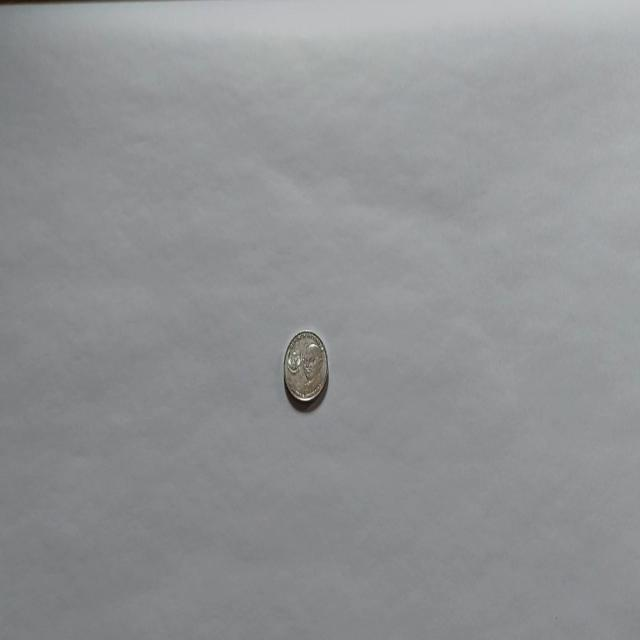lima ratus rupiah: (282, 328, 328, 409)
